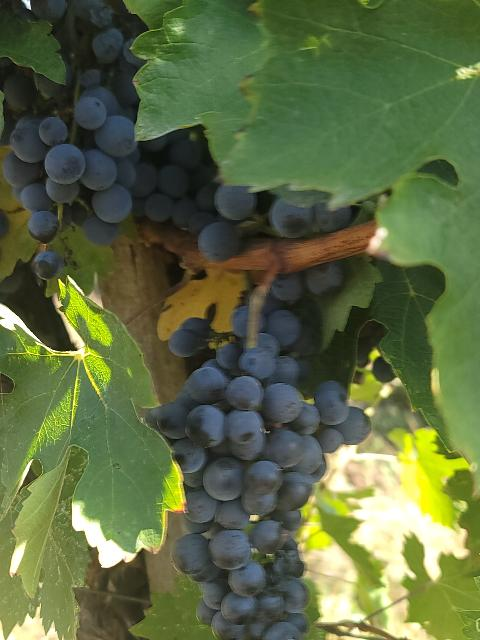grapes: (146, 305, 371, 640), (1, 0, 146, 249)
